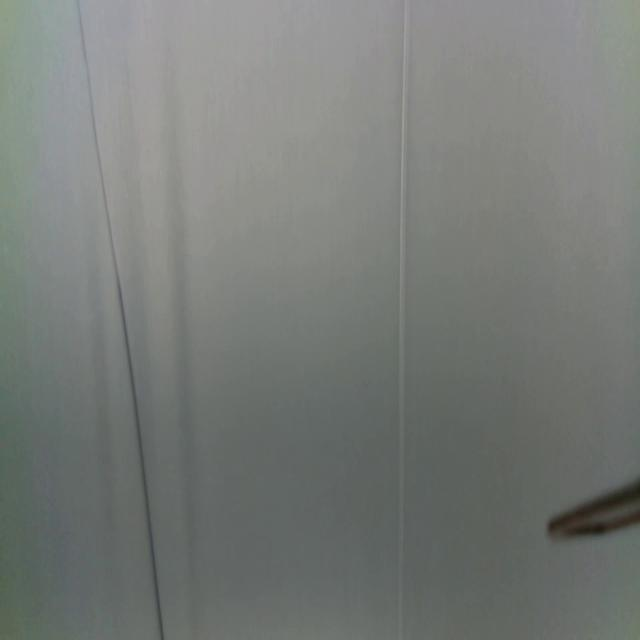crease: (78, 0, 164, 640), (395, 0, 411, 639)
